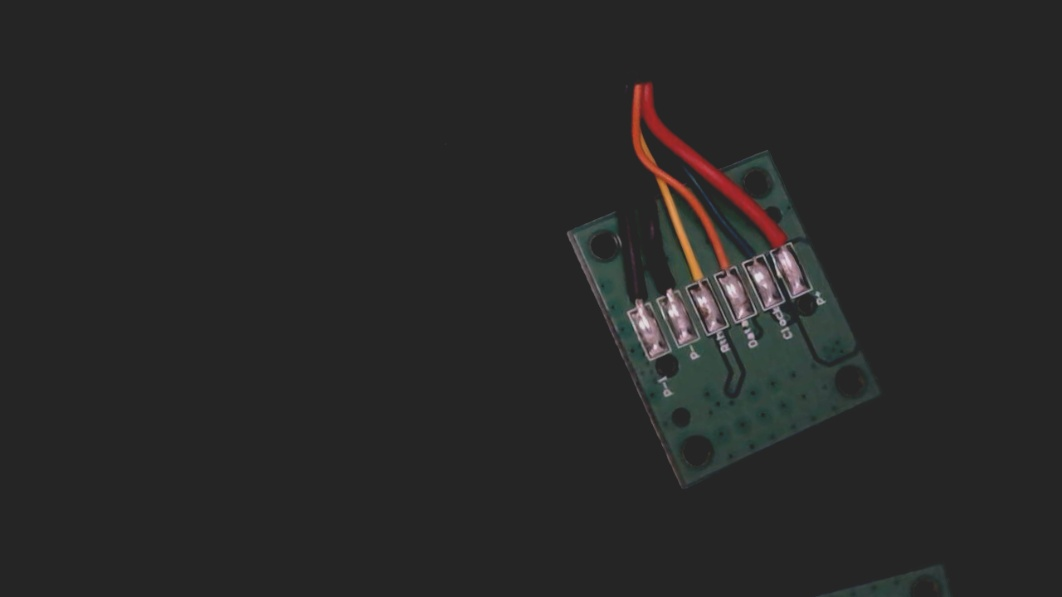Black: (645, 253, 685, 310)
Black1: (614, 264, 656, 322)
Green: (728, 228, 771, 275)
Orange: (703, 235, 743, 286)
Red: (758, 218, 801, 263)
Yellow: (674, 246, 714, 299)
